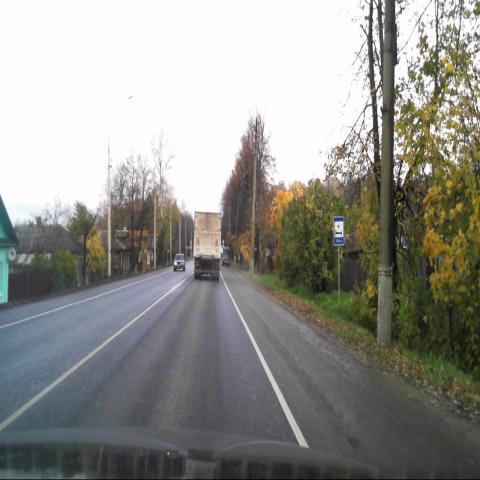7_2: (334, 217, 344, 245)
